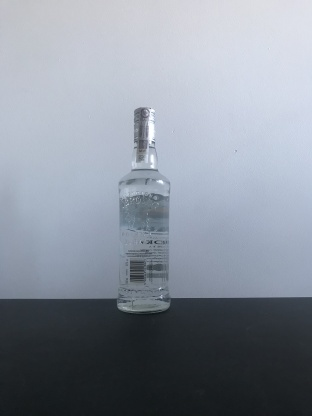nakretka: (131, 104, 157, 145)
